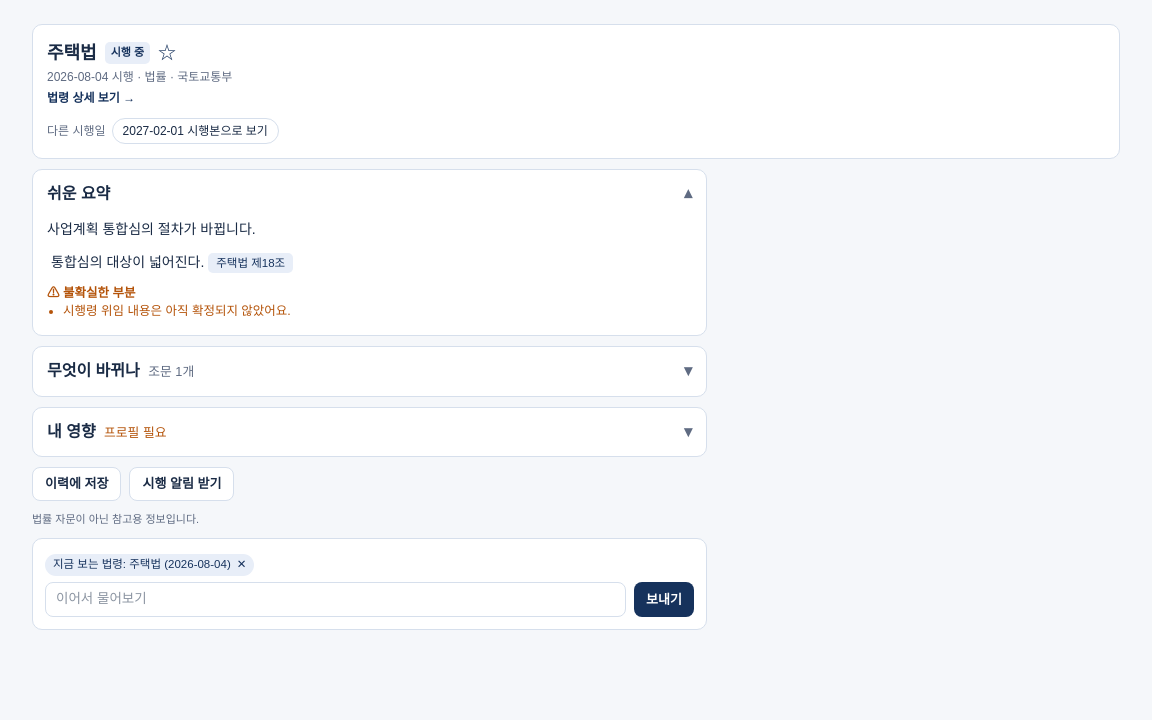
ResultView — 모바일 › 인용 칩 → 아래 시트에 근거 조문
Click the button "주택법 제18조" at (251, 263), box [208,253,293,273]
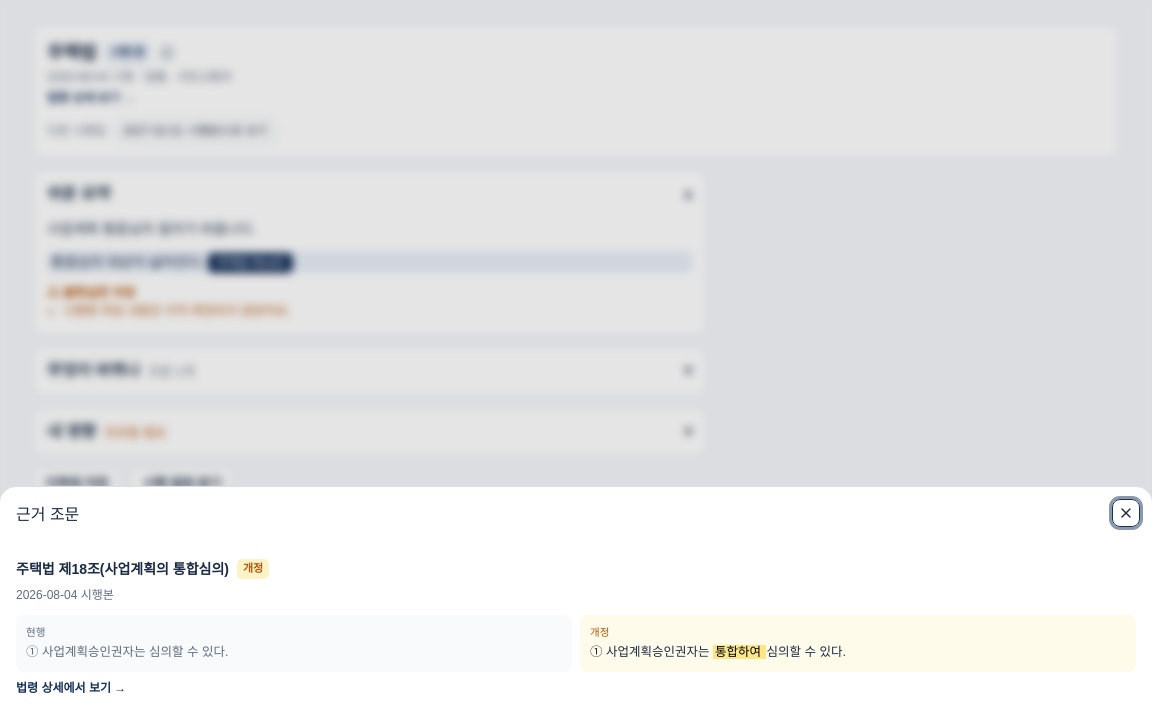
Now the text "주택법 제18조(사업계획의 통합심의)" is shown, box [16,559,229,579]
